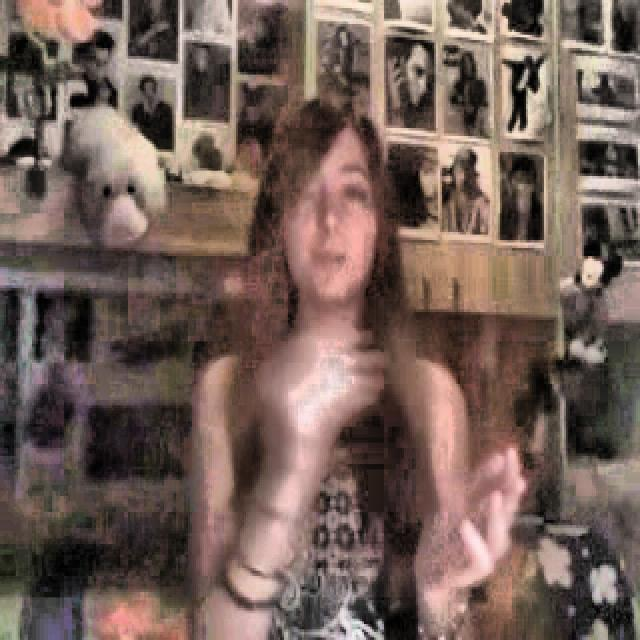F: (174, 87, 484, 640)
